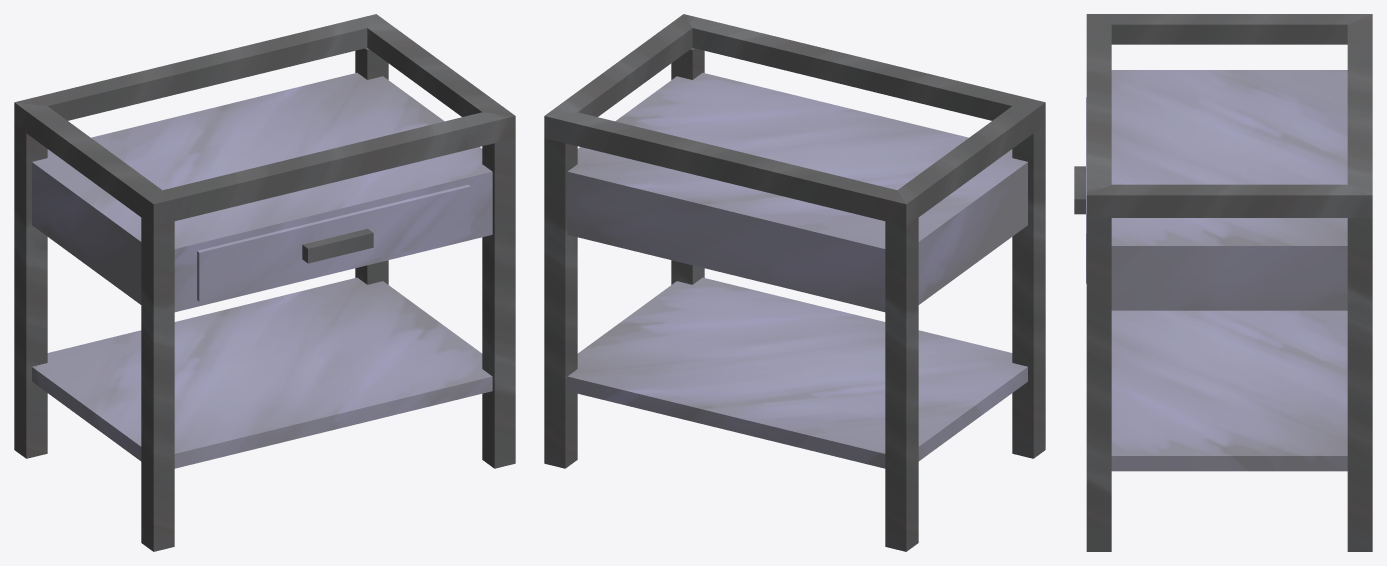
File: Prop_Cart.glb
The picture shows the model from 3 angles, left to right: view 1: azimuth 30°, elevation 25°; view 2: azimuth 150°, elevation 25°; view 3: azimuth 270°, elevation 25°; orthographic projection. The views are drawn at different scales.
Parts seen in each view (by area): view 1: Prop_Cart; view 2: Prop_Cart; view 3: Prop_Cart.
Part boxes in pixels (left/top/right/bottom): Prop_Cart: left=14, top=14, right=515, bottom=551; Prop_Cart: left=544, top=14, right=1045, bottom=551; Prop_Cart: left=1074, top=14, right=1372, bottom=551.
Bounding box in the file's own units: 1.2 × 1.1 × 0.8353.
Materials: 1 (1 with a texture image).
